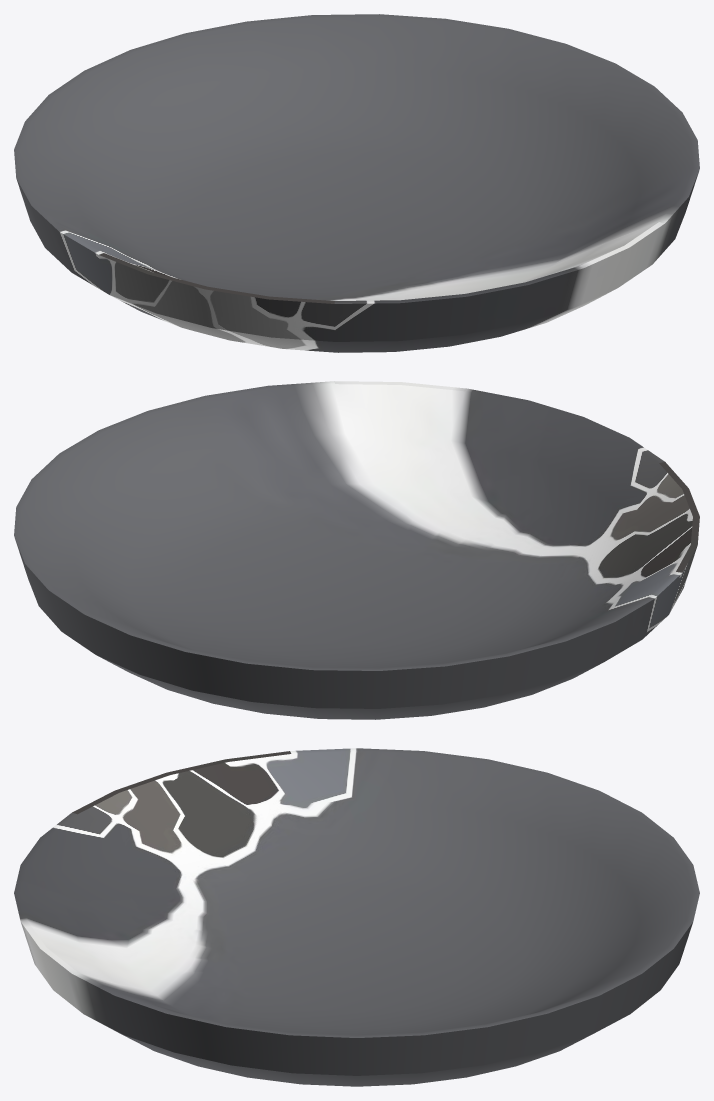
Rendered from Assets.fbx_Plate.fbx.
The picture shows the model from 3 angles, top to bottom: view 1: azimuth 30°, elevation 25°; view 2: azimuth 150°, elevation 25°; view 3: azimuth 270°, elevation 25°; orthographic projection.
Visible parts, largest first — view 1: Plate; view 2: Plate; view 3: Plate.
Boxes of the visible parts, <box> form: Plate: <box>14,14,699,352</box>; Plate: <box>14,381,699,719</box>; Plate: <box>14,748,699,1086</box>.
Size of the model in its own units: 29.22 by 4.8 by 29.22.
